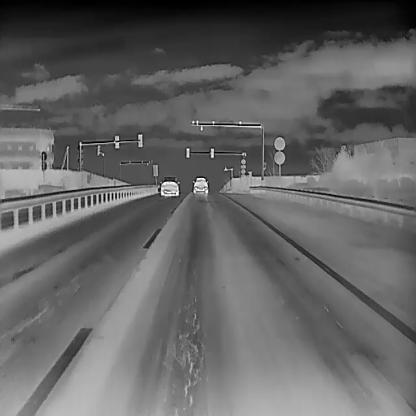car: (160, 175, 180, 196), (192, 176, 208, 193)
